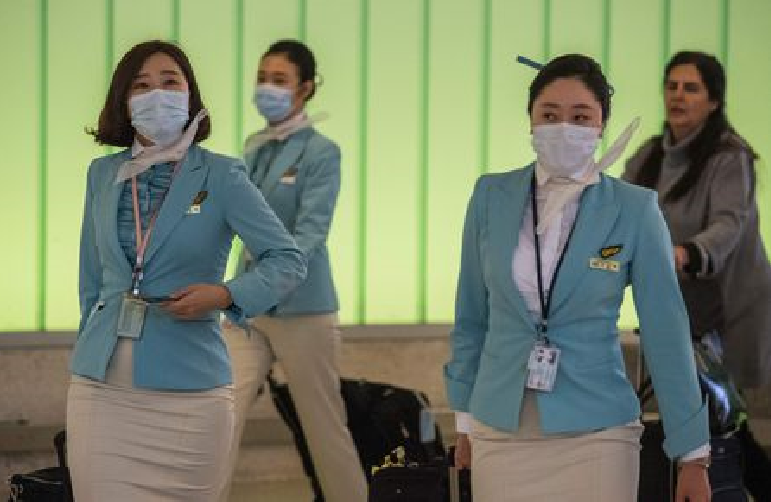with_mask: (522, 76, 604, 176), (120, 49, 194, 145), (250, 54, 307, 121)
without_mask: (662, 58, 719, 131)
